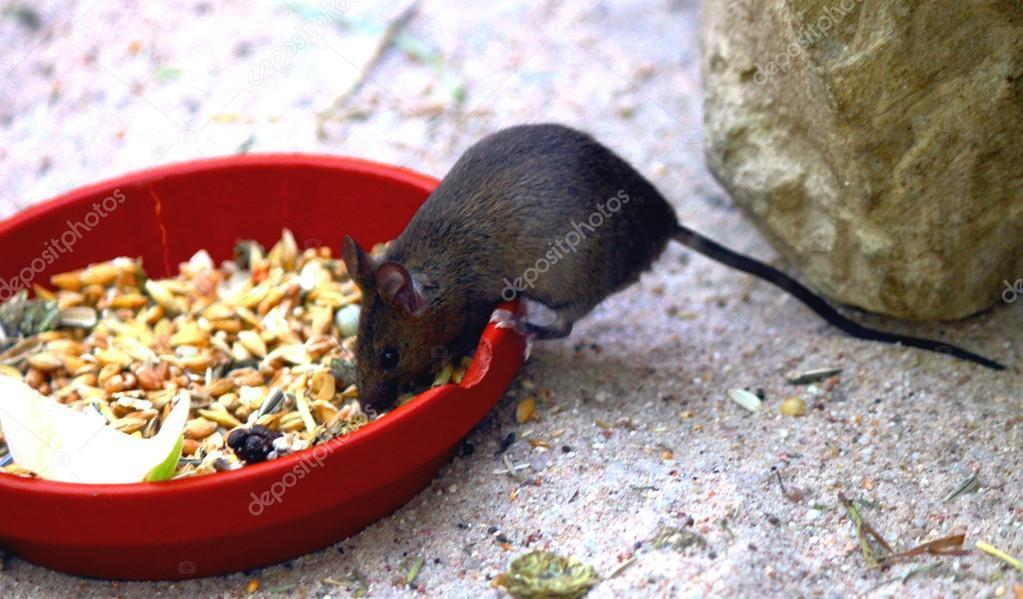rat: (340, 123, 1004, 421)
